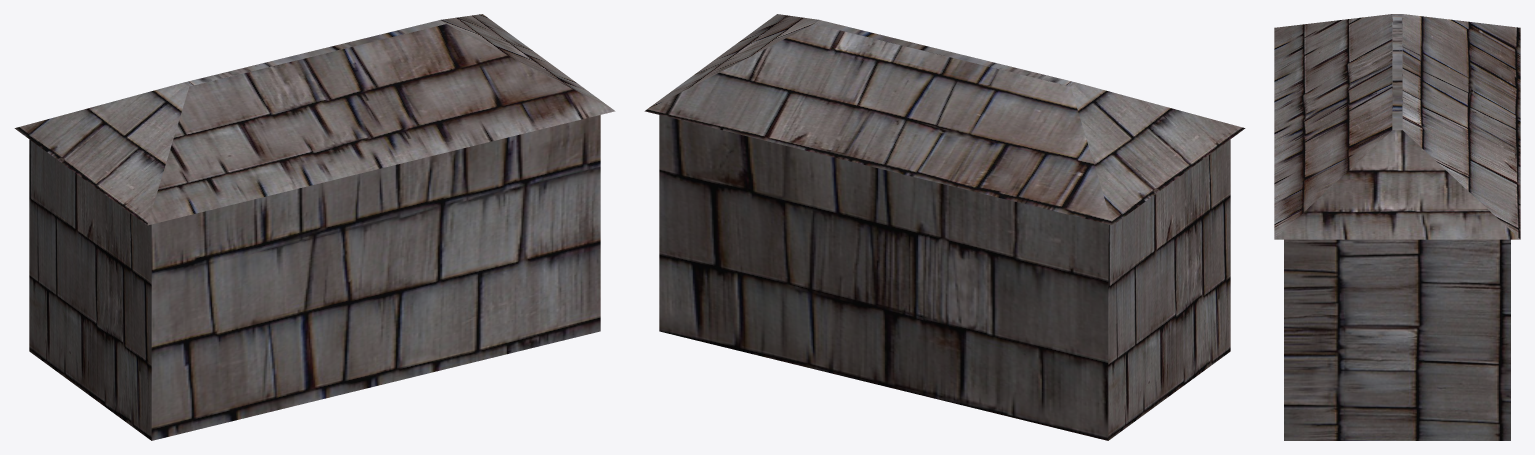
File: MediumHouse.obj
The picture shows the model from 3 angles, left to right: view 1: azimuth 30°, elevation 25°; view 2: azimuth 150°, elevation 25°; view 3: azimuth 270°, elevation 25°; orthographic projection. The views are drawn at different scales.
Parts seen in each view (by area): view 1: MediumHouse; view 2: MediumHouse; view 3: MediumHouse.
Part boxes in pixels (bbox=[...]): MediumHouse: bbox=[14, 14, 615, 440]; MediumHouse: bbox=[644, 14, 1245, 440]; MediumHouse: bbox=[1274, 14, 1520, 440].
Size of the model in its own units: 111 by 65 by 54.33.
